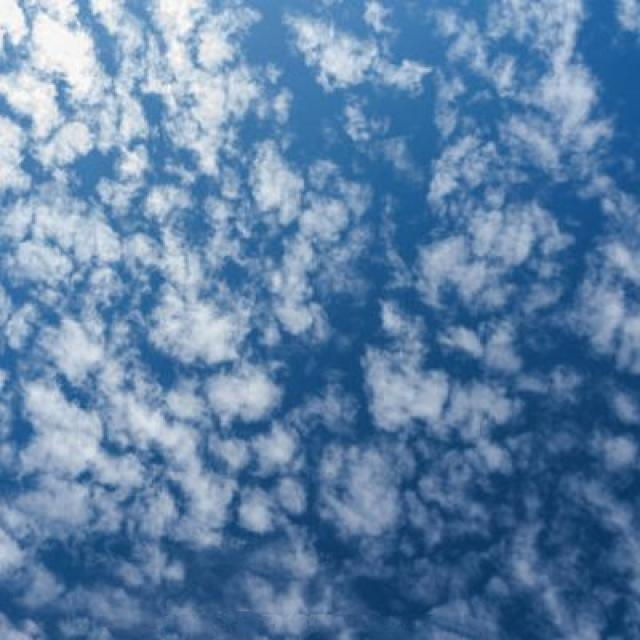Cc: (1, 38, 640, 576)
